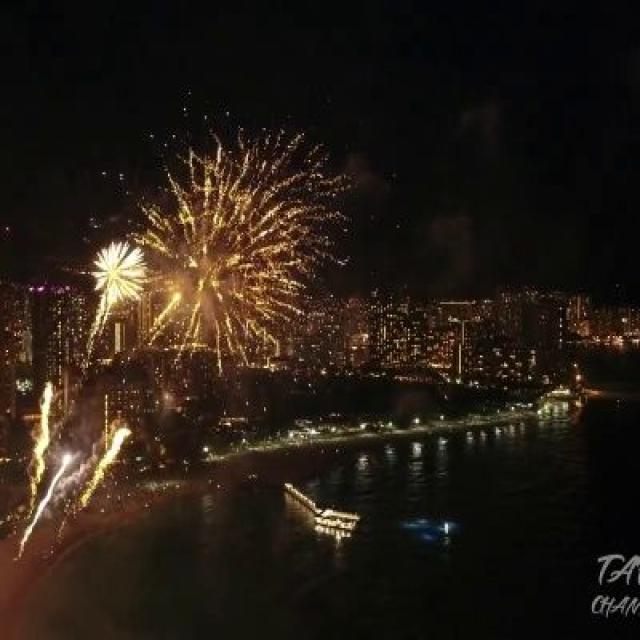Smoke: (418, 203, 477, 291), (446, 80, 513, 152)
